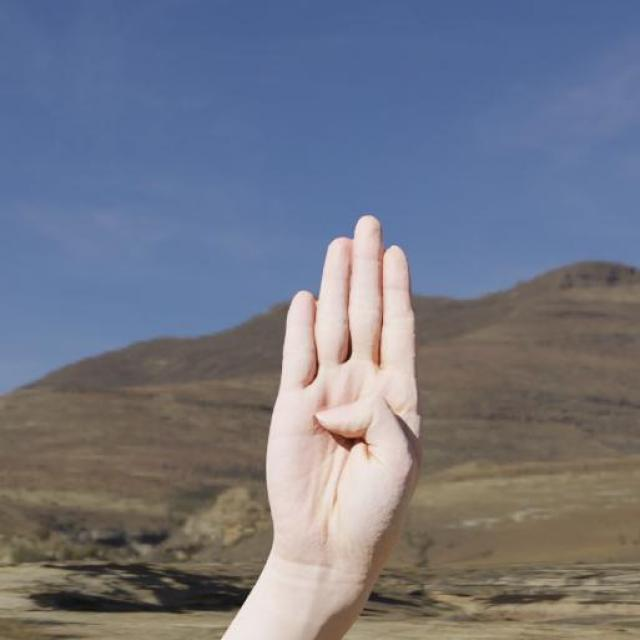B: (257, 212, 437, 586)
